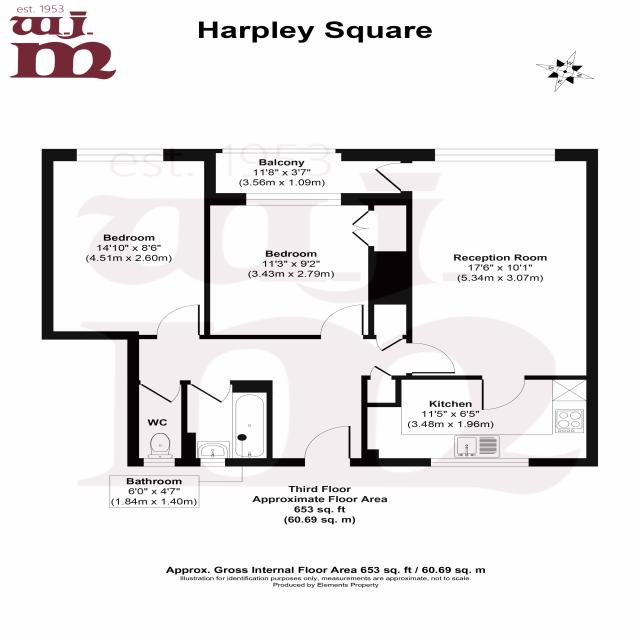DOOR: (299, 423, 355, 467), (479, 375, 528, 412), (154, 302, 203, 339), (406, 341, 459, 375), (368, 161, 414, 200), (318, 303, 367, 339), (134, 380, 182, 405), (184, 381, 233, 405), (369, 364, 394, 380)
ROOM: (364, 148, 598, 415), (38, 147, 207, 338), (204, 193, 413, 339), (361, 363, 598, 466)
WINDOW: (432, 145, 561, 163), (244, 190, 345, 208), (74, 147, 167, 163), (427, 455, 532, 469), (220, 147, 338, 154), (142, 457, 177, 468), (199, 457, 226, 467)
